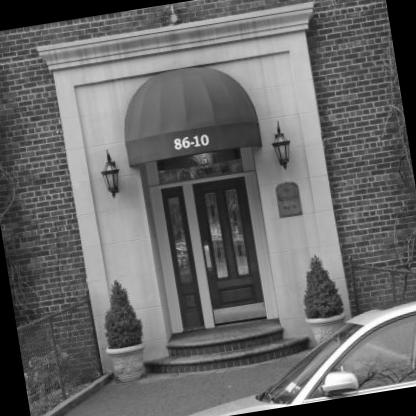car: (170, 293, 416, 416)
